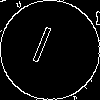I: (25, 25, 55, 73)
